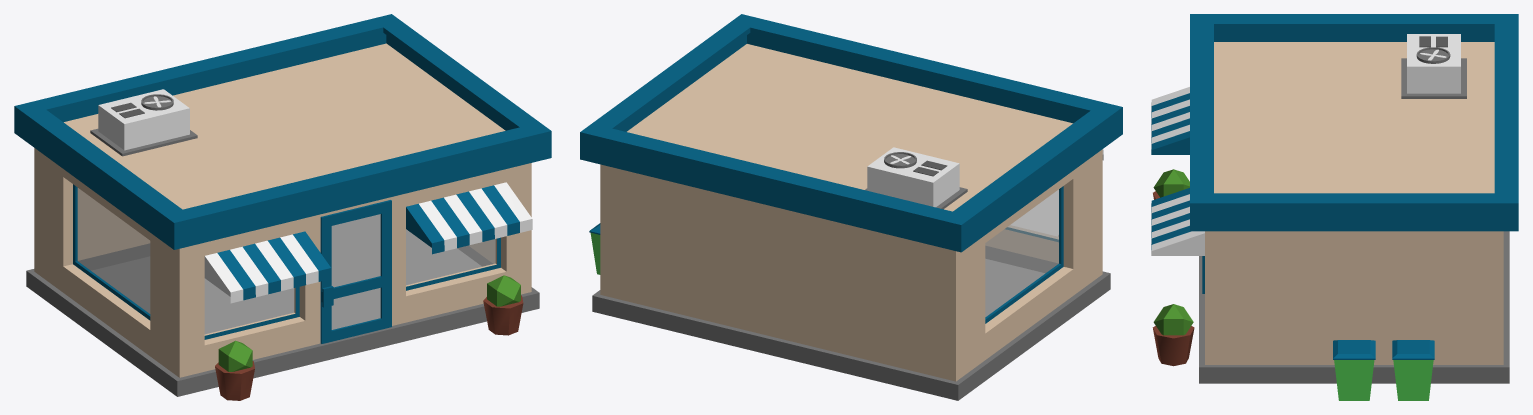
3 renders of one model, left to right at view 1: azimuth 30°, elevation 25°; view 2: azimuth 150°, elevation 25°; view 3: azimuth 270°, elevation 25°, orthographic. The views are drawn at different scales.
Visible parts, largest first — view 1: 3DSMeshMatrix (×24); view 2: 3DSMeshMatrix (×2); view 3: 3DSMeshMatrix (×13).
Boxes of the visible parts, x1,y1,x2,y2 form: 3DSMeshMatrix (×24): (14, 14, 551, 400); 3DSMeshMatrix (×2): (580, 14, 1122, 400); 3DSMeshMatrix (×13): (1151, 14, 1518, 400).
Bounding box in the file's own units: 81.32 × 35.99 × 61.46.
